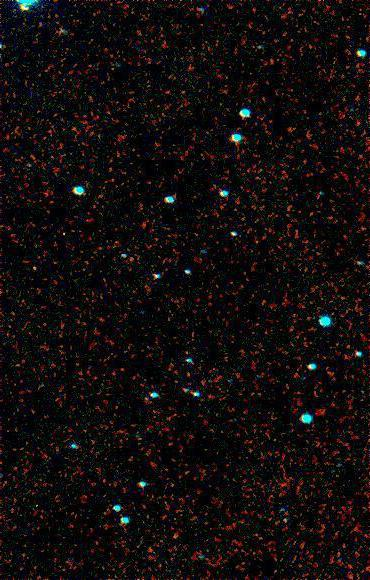star: (19, 253, 49, 283)
